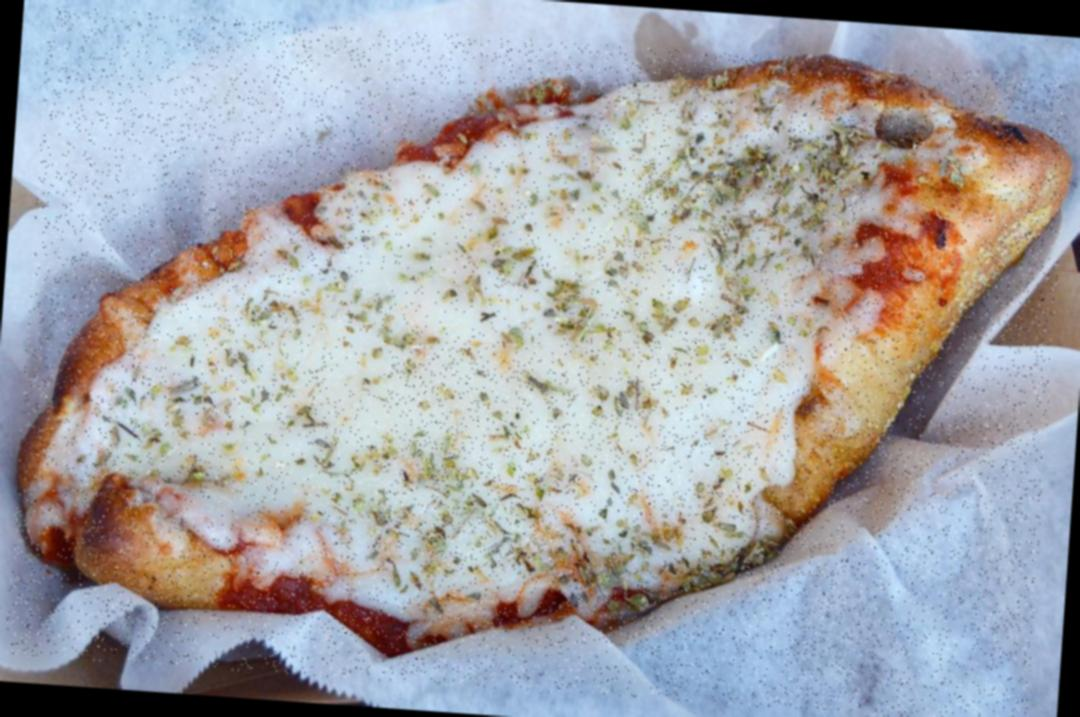Cheese: (599, 80, 872, 346), (134, 312, 386, 540), (372, 159, 616, 358), (565, 330, 789, 524), (375, 343, 566, 565)
Pizza: (4, 5, 1071, 717)
